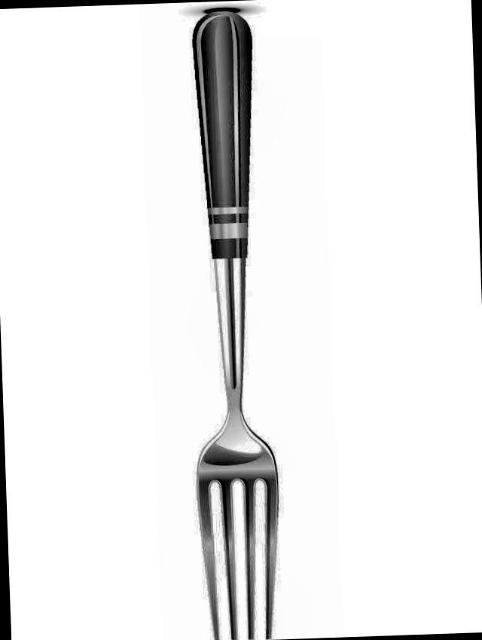Fork: (194, 10, 277, 639)
